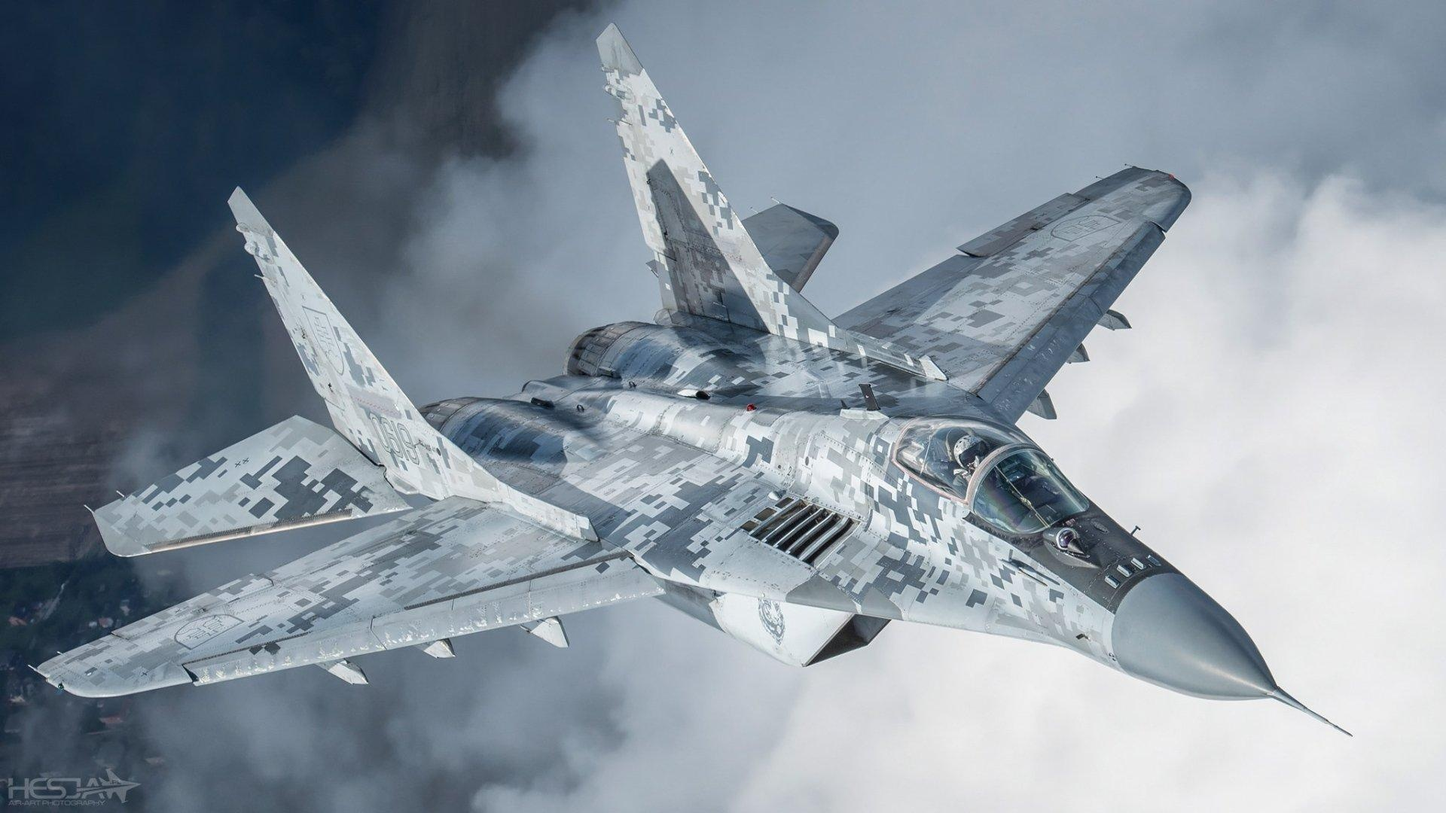aircraft: (23, 44, 1311, 707)
